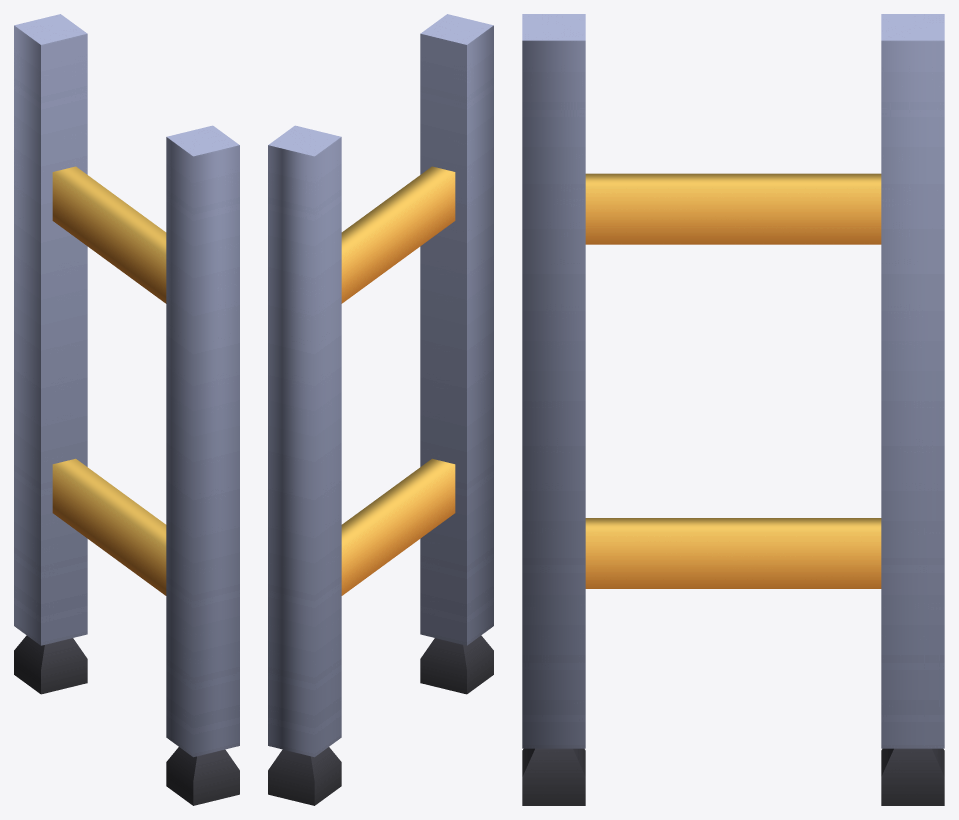
The model's file is structure-yellow-tall.glb.
3 renders of one model, left to right at view 1: azimuth 30°, elevation 25°; view 2: azimuth 150°, elevation 25°; view 3: azimuth 270°, elevation 25°, orthographic. The views are drawn at different scales.
Visible parts, largest first — view 1: structure-yellow-tall; view 2: structure-yellow-tall; view 3: structure-yellow-tall.
Boxes of the visible parts, x1,y1,x2,y2 form: structure-yellow-tall: (14,14,239,805); structure-yellow-tall: (268,14,493,805); structure-yellow-tall: (522,14,944,805).
Bounding box in the file's own units: 0.15 × 2 × 1.
1 material, 1 textured.
